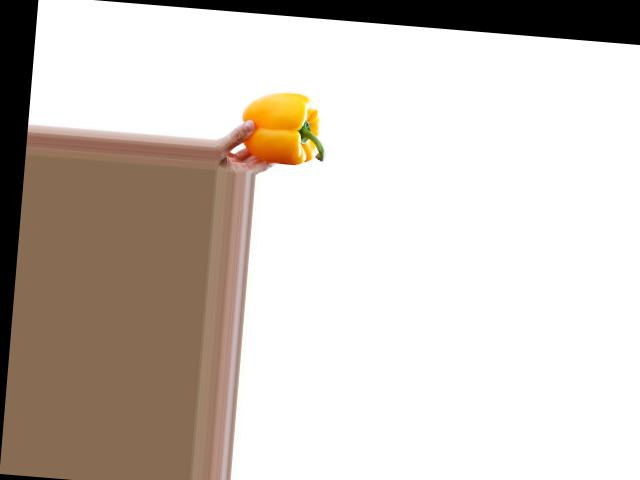bell_pepper: (237, 87, 333, 167)
